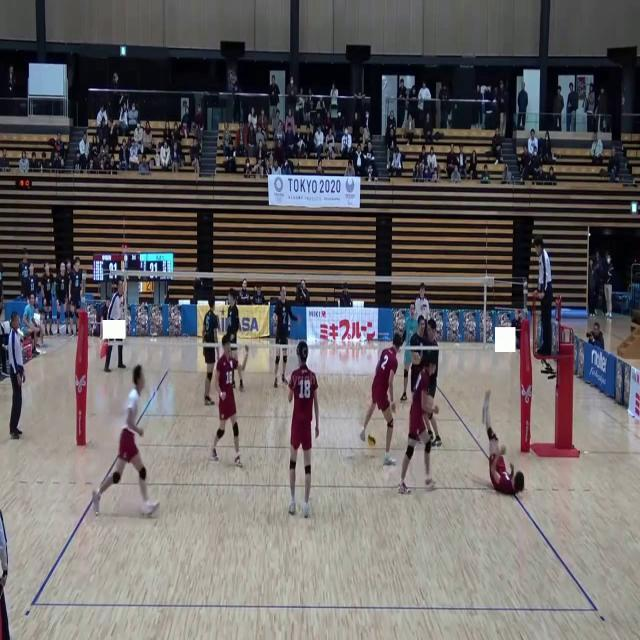volleyball: (366, 433, 376, 447)
